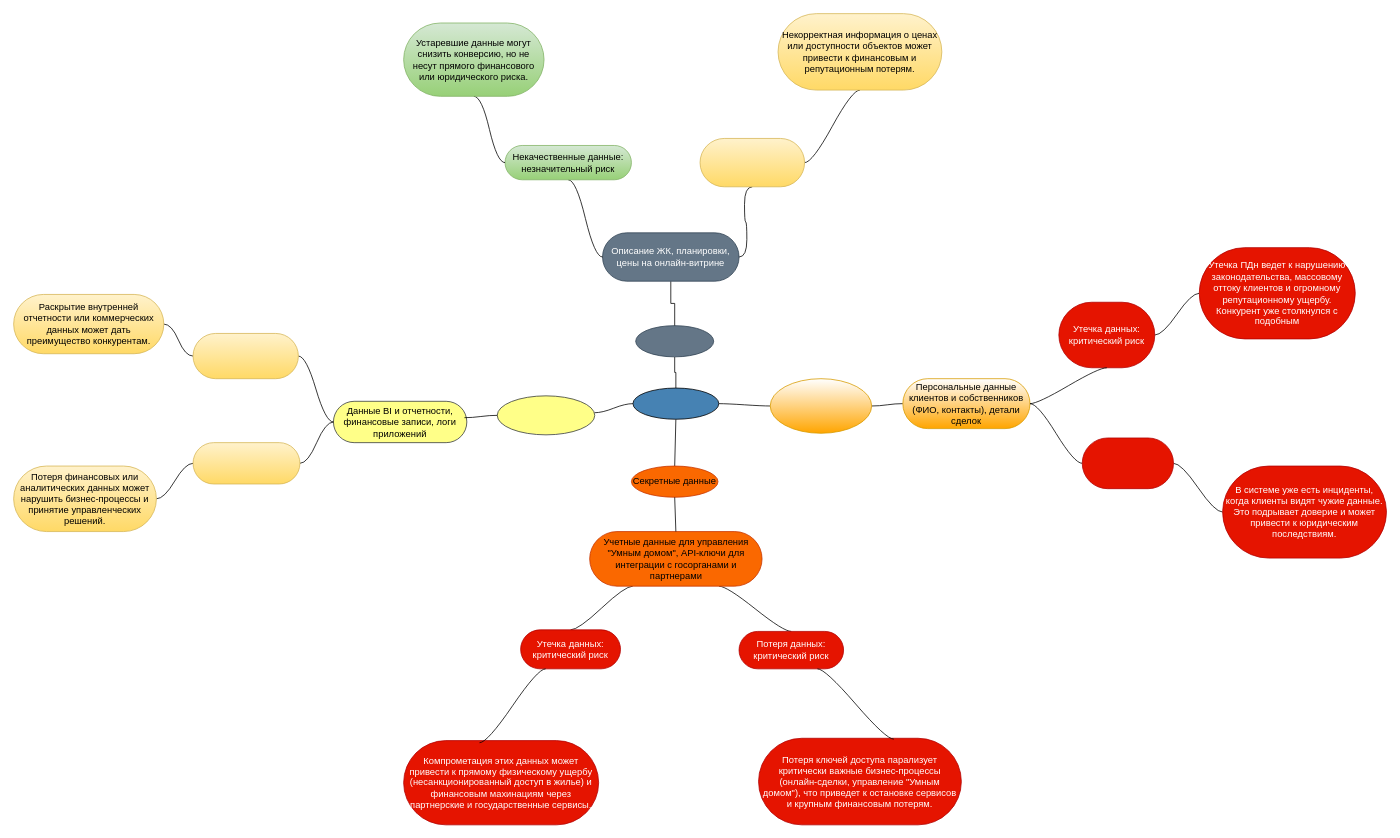
Some shapes in this 1400 by 838 pixel diagram are drawn without their labels. Each missing label, with the centre of its shape:
"Безопасность данных" goes at point 675,403.
"Внутренние данные" goes at point 545,415.
"Искажение данных: значительный риск" goes at point 752,162.
"Искажение данных: критический риск" goes at point 1127,463.
"Конфиденциальные данные" goes at point 820,405.
"Потеря данных: значительные риск" goes at point 246,463.
"Публичные данные" goes at point 674,341.
"Утечка данных: значительные риск" goes at point 245,356.
